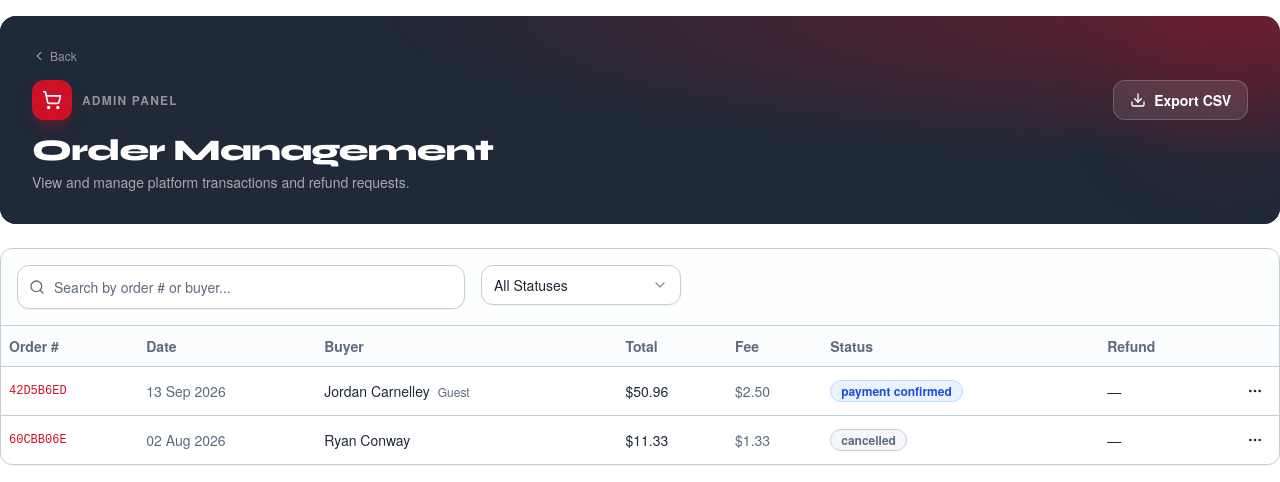
Test case: OrderManagementPage › searches by the order id shown in the Order # column
This screenshot has width=1280, height=482.
expect the text "Jordan Carnelley" is shown: met, box [324,380,430,400]
Type "60CBB06E" into the field with placeholder "Search by order # or buyer..." at coordinates (241, 287), box [17,265,465,309]
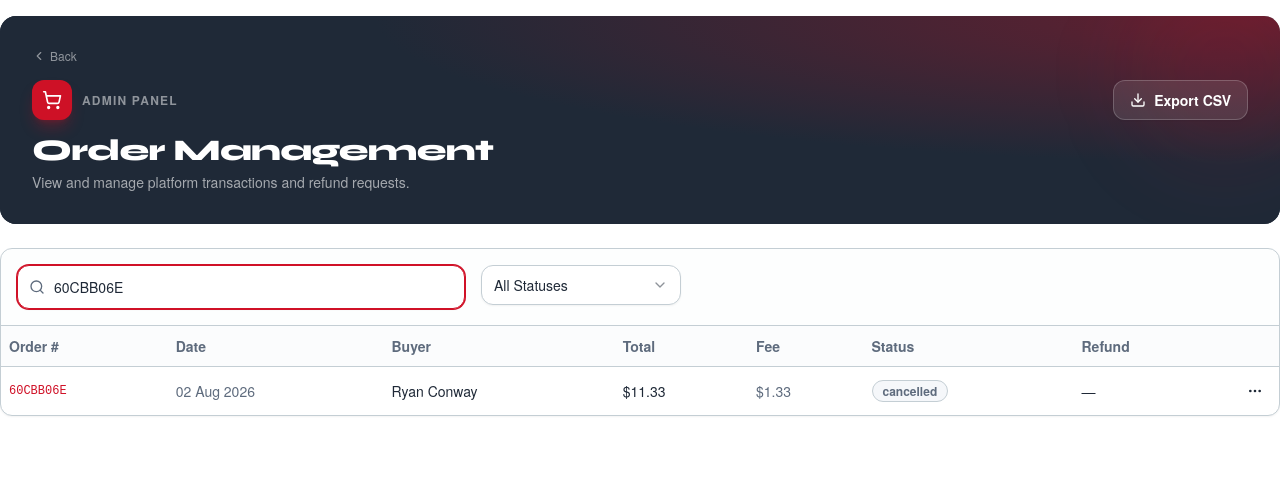
expect the text "Ryan Conway" is shown: met, box [384,366,615,414]
expect the text "Jordan Carnelley" is gone: met
